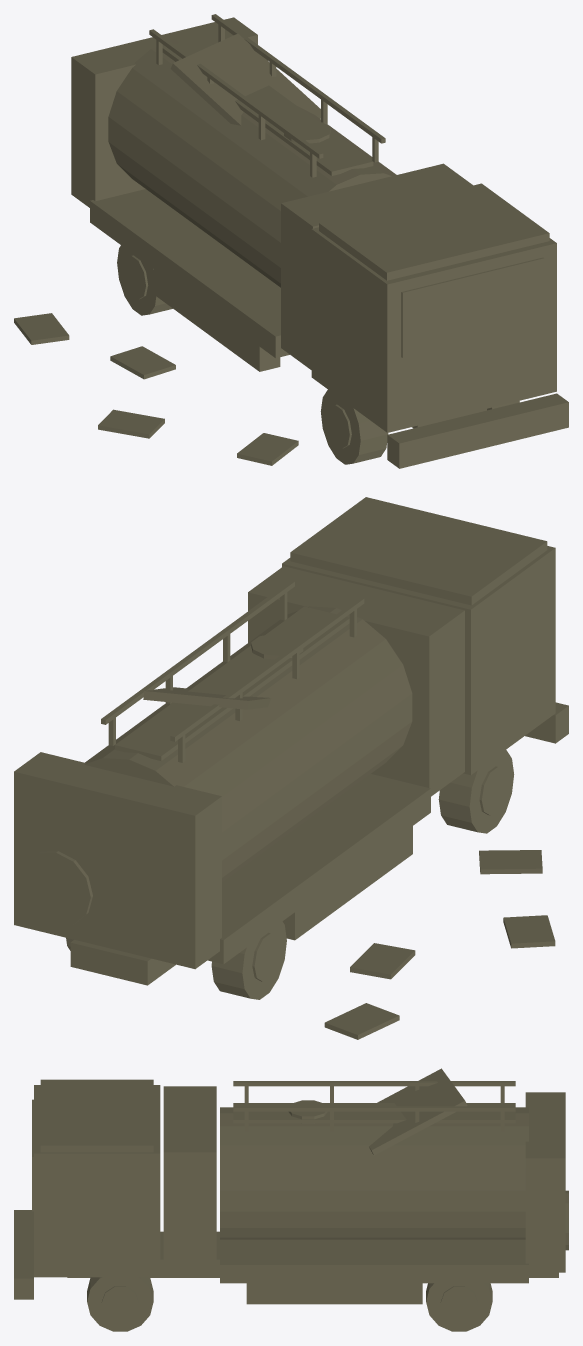
The model's file is SM_CamionCisterna_v4_Quemado_LOD0.fbx.
3 renders of one model, top to bottom at view 1: azimuth 30°, elevation 25°; view 2: azimuth 150°, elevation 25°; view 3: azimuth 270°, elevation 25°, orthographic. The views are drawn at different scales.
Visible parts, largest first — view 1: SM_camion_cisterna_v4_LOD0; view 2: SM_camion_cisterna_v4_LOD0; view 3: SM_camion_cisterna_v4_LOD0.
Boxes of the visible parts, x1,y1,x2,y2 form: SM_camion_cisterna_v4_LOD0: [14, 14, 568, 468]; SM_camion_cisterna_v4_LOD0: [14, 497, 568, 1039]; SM_camion_cisterna_v4_LOD0: [14, 1068, 568, 1331].
Bounding box in the file's own units: 4.54 × 3.47 × 8.35.
